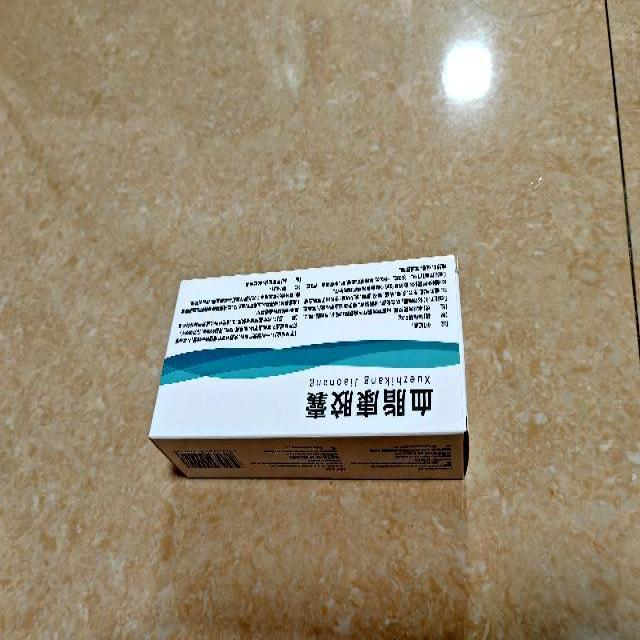box: (150, 254, 470, 478)
